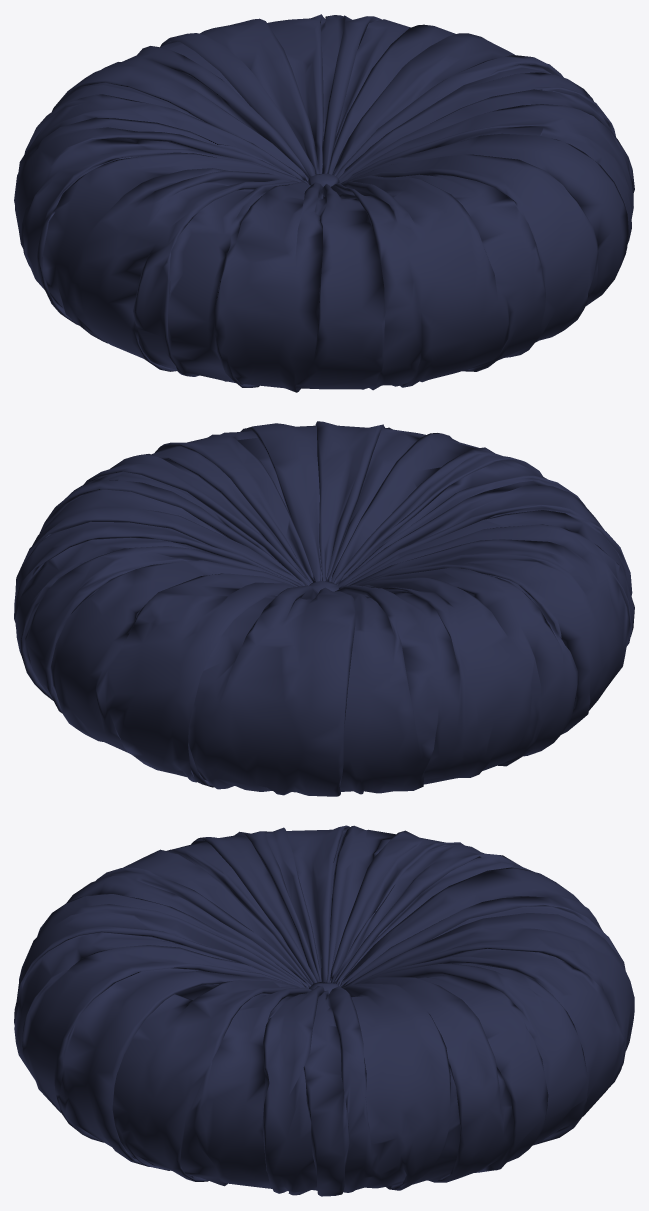
Rendered from SpecularSilkPouf.glb.
The picture shows the model from 3 angles, top to bottom: view 1: azimuth 30°, elevation 25°; view 2: azimuth 150°, elevation 25°; view 3: azimuth 270°, elevation 25°; orthographic projection.
Visible parts, largest first — view 1: SpecularSilkPouf; view 2: SpecularSilkPouf; view 3: SpecularSilkPouf.
Part boxes in pixels (<box>): SpecularSilkPouf: <box>14,14,634,392</box>; SpecularSilkPouf: <box>14,421,634,796</box>; SpecularSilkPouf: <box>14,825,634,1196</box>.
Bounding box in the file's own units: 0.6099 × 0.1973 × 0.6095.
